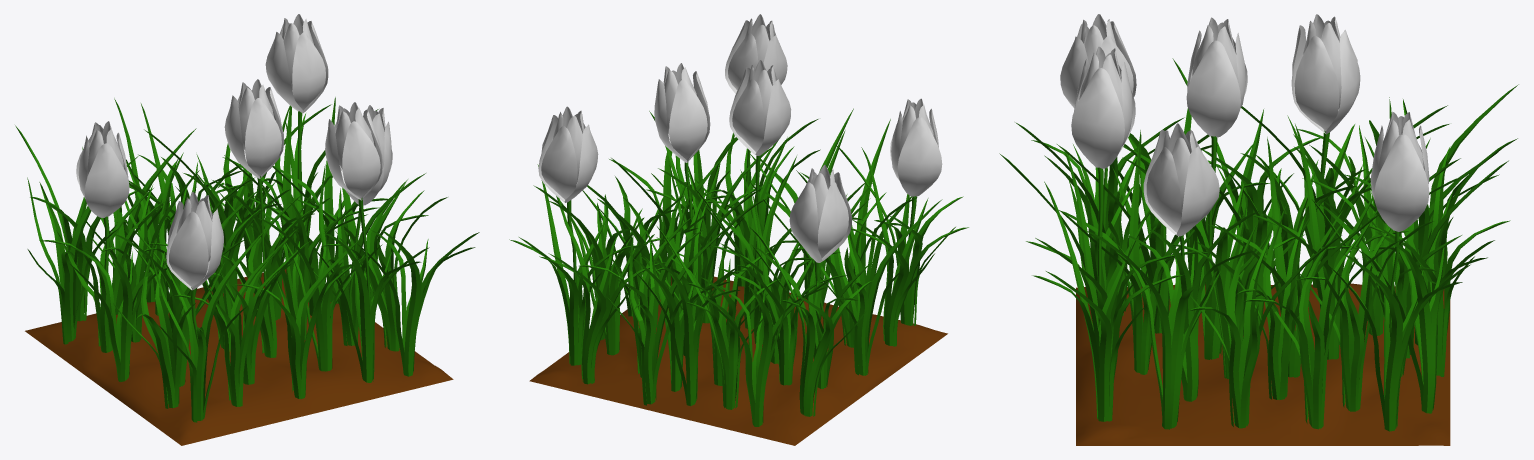
File: white-tulip-p3-bloom.glb
3 renders of one model, left to right at view 1: azimuth 30°, elevation 25°; view 2: azimuth 150°, elevation 25°; view 3: azimuth 270°, elevation 25°, orthographic. The views are drawn at different scales.
Parts seen in each view (by area): view 1: 3_nft_bloom; view 2: 3_nft_bloom; view 3: 3_nft_bloom.
Part boxes in pixels (x1=…): 3_nft_bloom: x1=15, y1=14, x2=479, y2=445; 3_nft_bloom: x1=509, y1=14, x2=968, y2=445; 3_nft_bloom: x1=999, y1=14, x2=1518, y2=445.
Bounding box in the file's own units: 0.8884 × 0.7071 × 0.9749.
